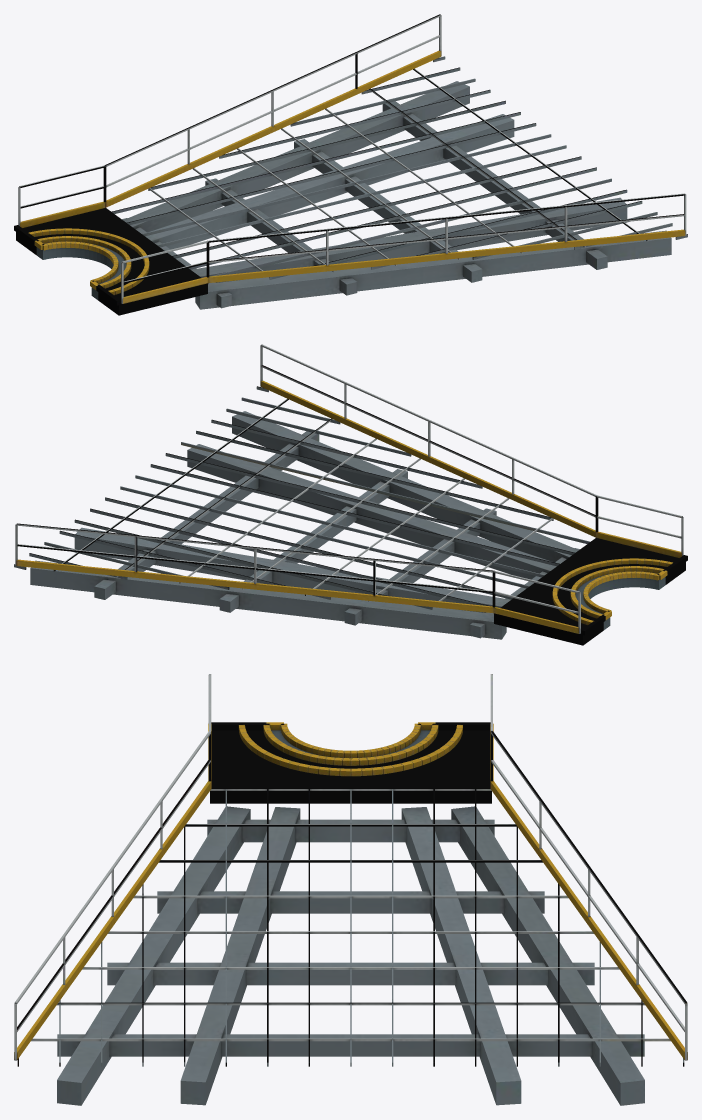
File: platform_half_lod.glb
3 views of the same model, one above another, from view 1: azimuth 30°, elevation 25°; view 2: azimuth 150°, elevation 25°; view 3: azimuth 270°, elevation 25° (orthographic). The views are drawn at different scales.
Parts seen in each view (by area): view 1: body, slot_cut__l, slot_cut__m, slot_cut__s; view 2: body, slot_cut__l, slot_cut__m, slot_cut__s; view 3: body, slot_cut__l, slot_cut__m, slot_cut__s.
Part boxes in pixels (left/top/right/bottom): body: left=18, top=14, right=687, bottom=309; slot_cut__l: left=14, top=208, right=207, bottom=315; slot_cut__m: left=14, top=208, right=200, bottom=314; slot_cut__s: left=15, top=208, right=198, bottom=310; body: left=14, top=344, right=683, bottom=639; slot_cut__l: left=494, top=538, right=687, bottom=645; slot_cut__m: left=501, top=538, right=687, bottom=643; slot_cut__s: left=502, top=538, right=687, bottom=643; body: left=14, top=674, right=687, bottom=1105; slot_cut__l: left=210, top=722, right=491, bottom=803; slot_cut__m: left=211, top=722, right=490, bottom=788; slot_cut__s: left=211, top=722, right=490, bottom=788.
Bounding box in the file's own units: 14.11 × 1.94 × 11.96.
Materials: 4 (4 with a texture image).
